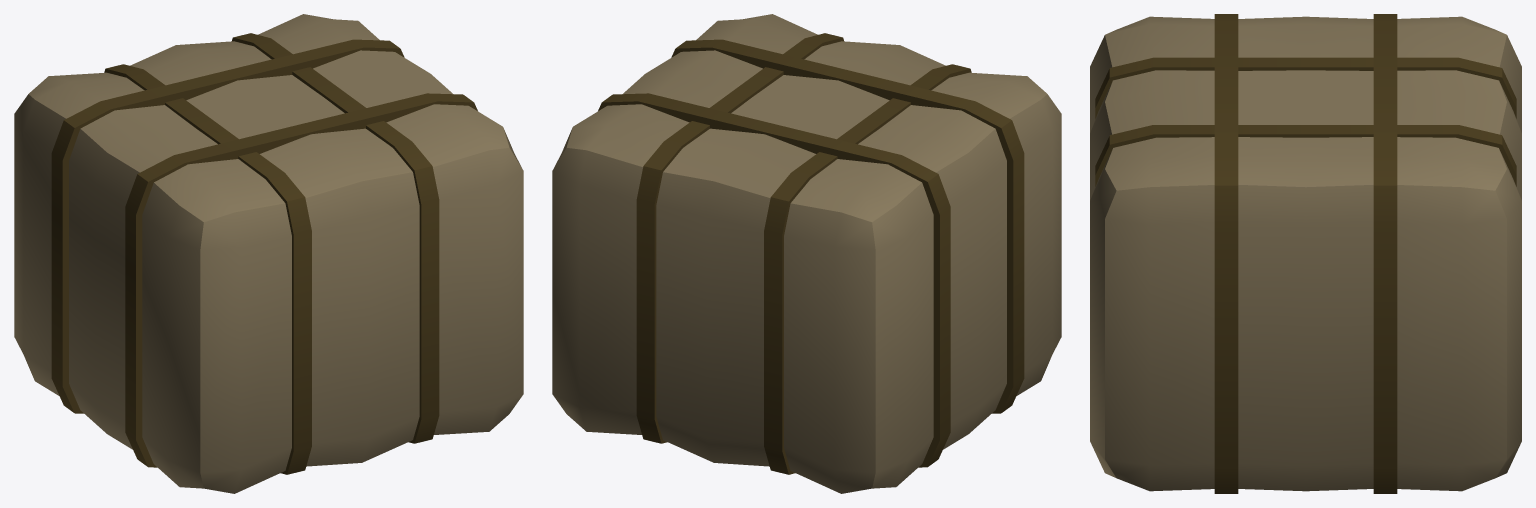
Rendered from Package.glb.
3 renders of one model, left to right at view 1: azimuth 30°, elevation 25°; view 2: azimuth 150°, elevation 25°; view 3: azimuth 270°, elevation 25°, orthographic. The views are drawn at different scales.
Parts seen in each view (by area): view 1: Package; view 2: Package; view 3: Package.
Boxes of the visible parts, left/top/right/bottom form: Package: left=14, top=14, right=523, bottom=493; Package: left=552, top=14, right=1061, bottom=493; Package: left=1090, top=14, right=1521, bottom=493.
Size of the model in its own units: 0.1897 by 0.158 by 0.1876.
